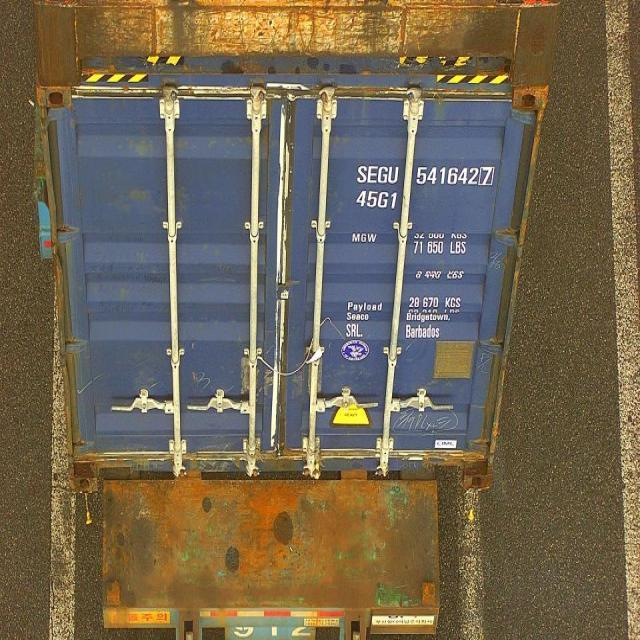ISO: (357, 186, 398, 210)
container_number: (353, 160, 496, 188)
